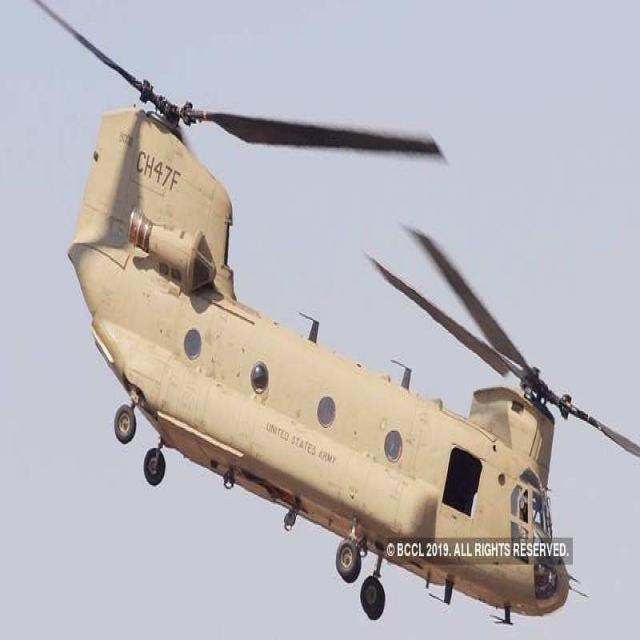helicopter: (22, 13, 615, 636)
